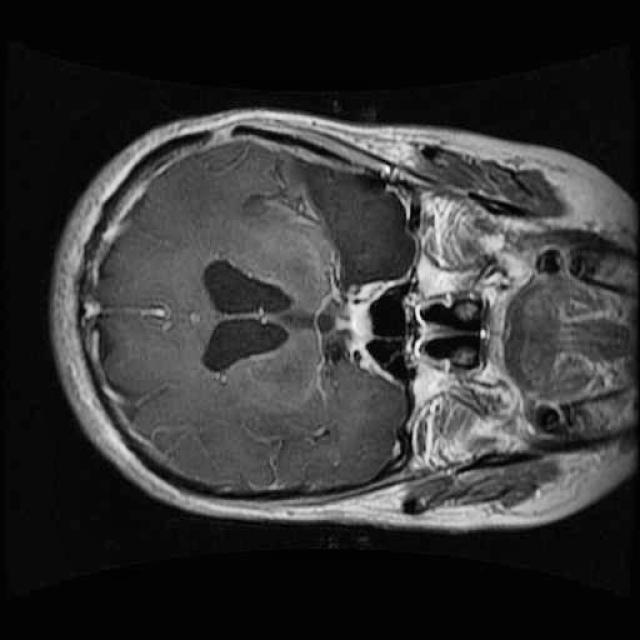Tumor: (273, 133, 472, 314)
